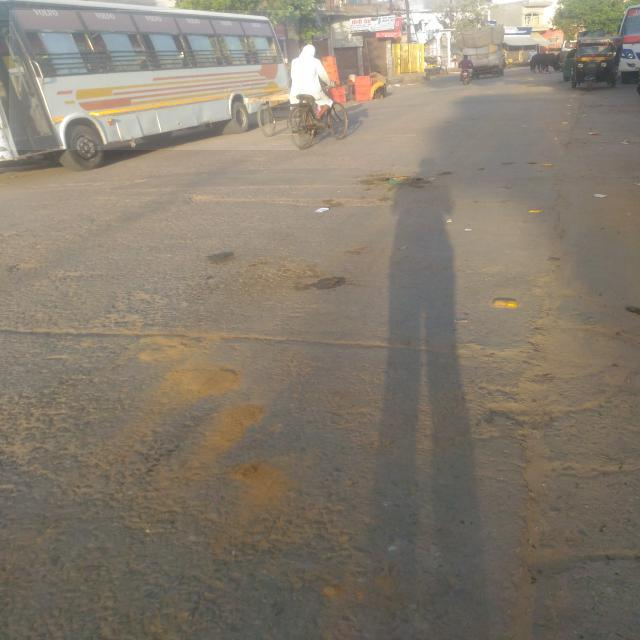Bus: (9, 10, 299, 150)
